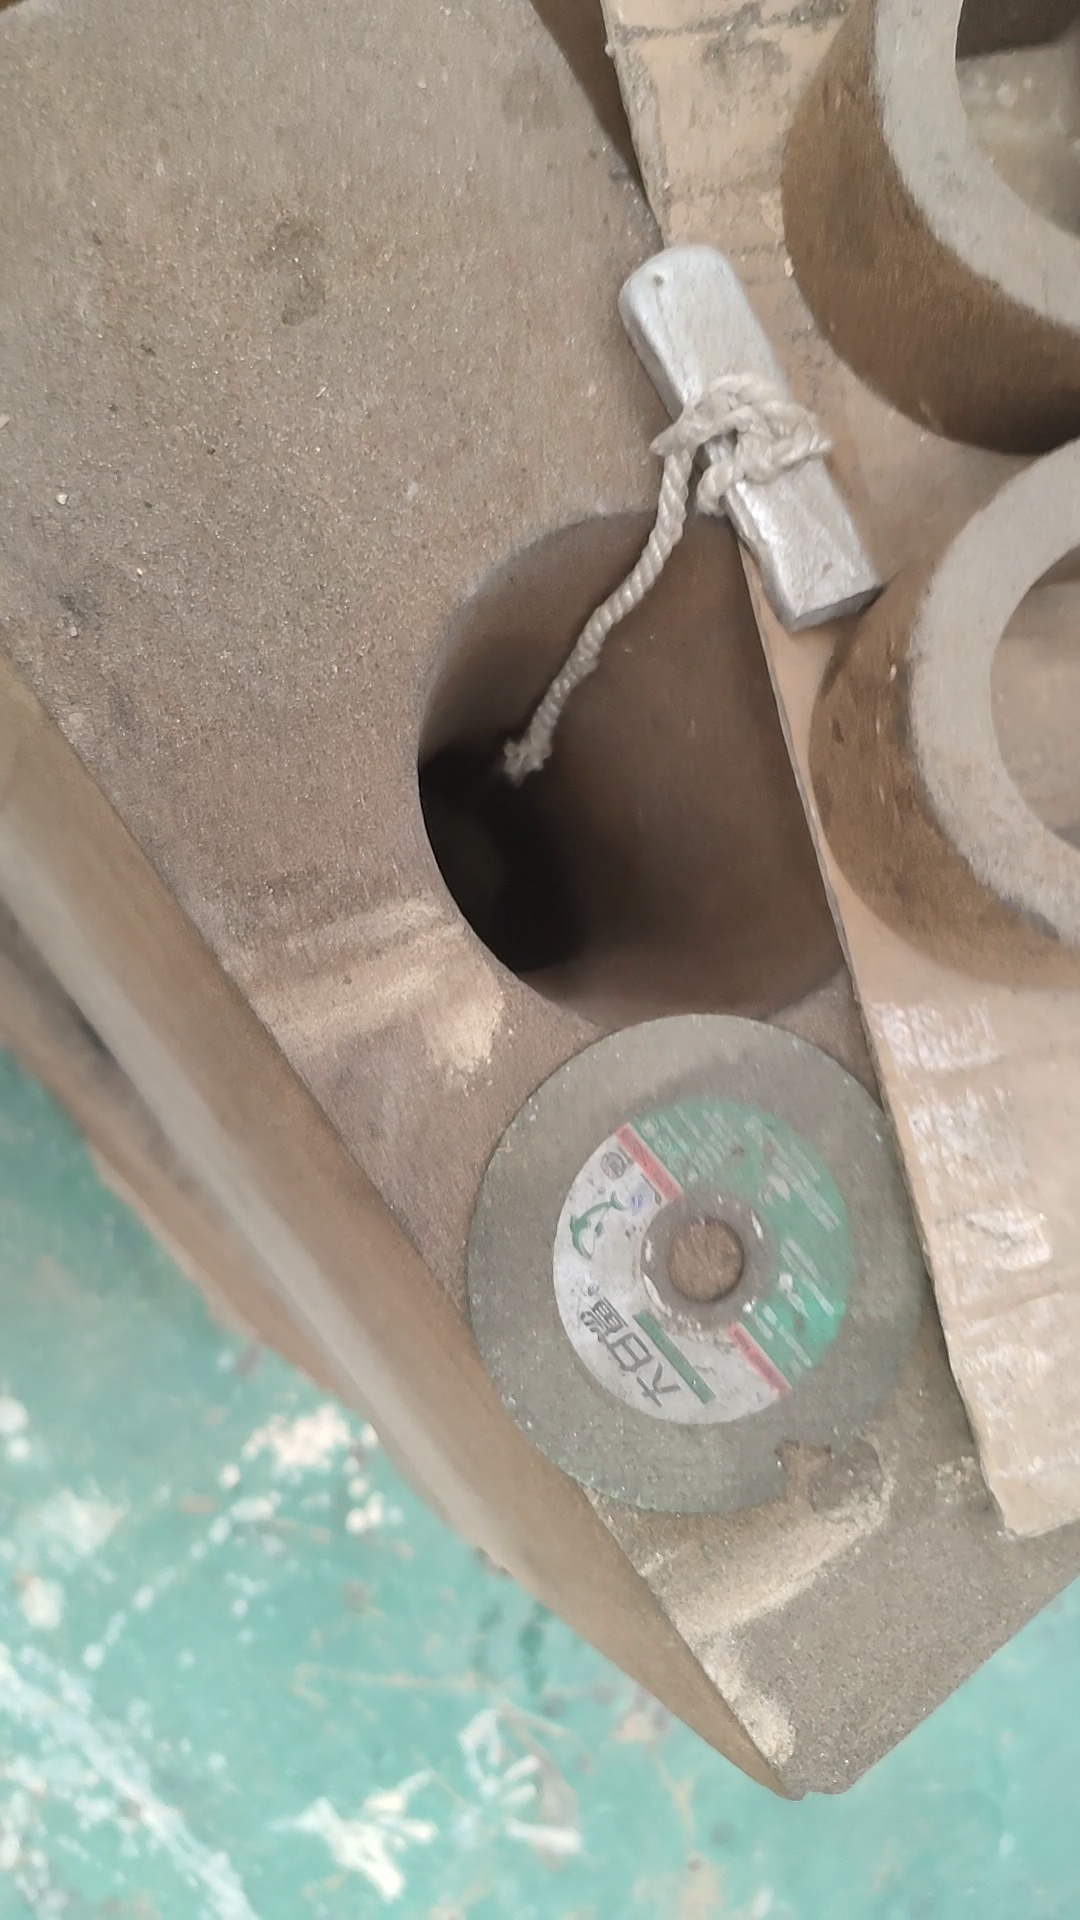pouring hole: (417, 504, 866, 1034)
